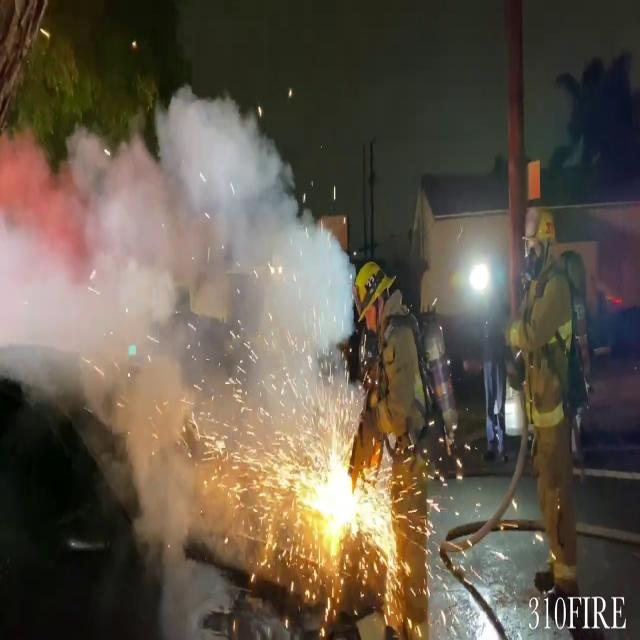Fire: (305, 448, 382, 567)
Smoke: (0, 93, 346, 585)
